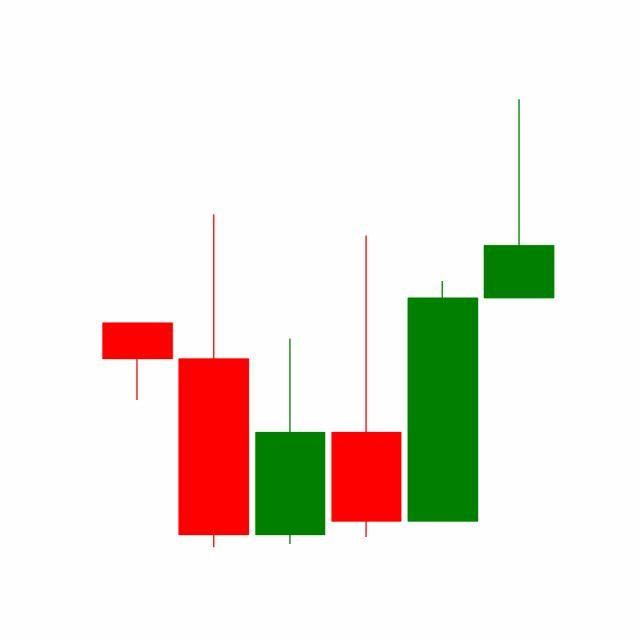Marubozu: (404, 278, 482, 525)
